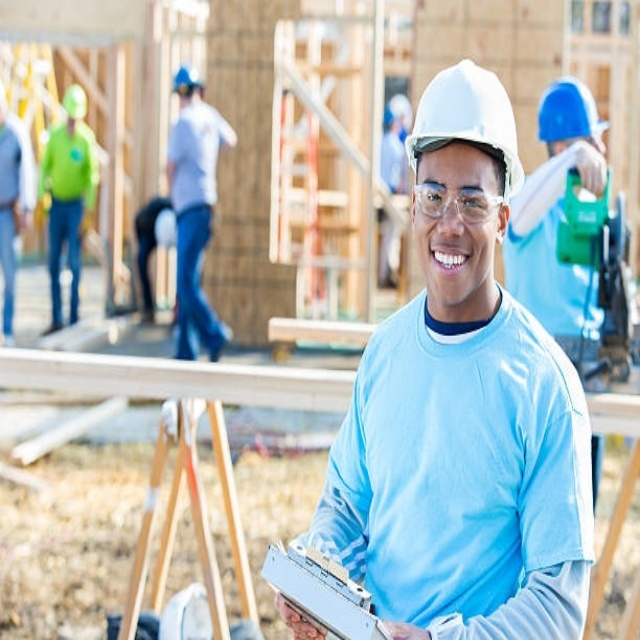Gafas: (412, 185, 506, 226)
Sin_mascara: (427, 238, 472, 296)
